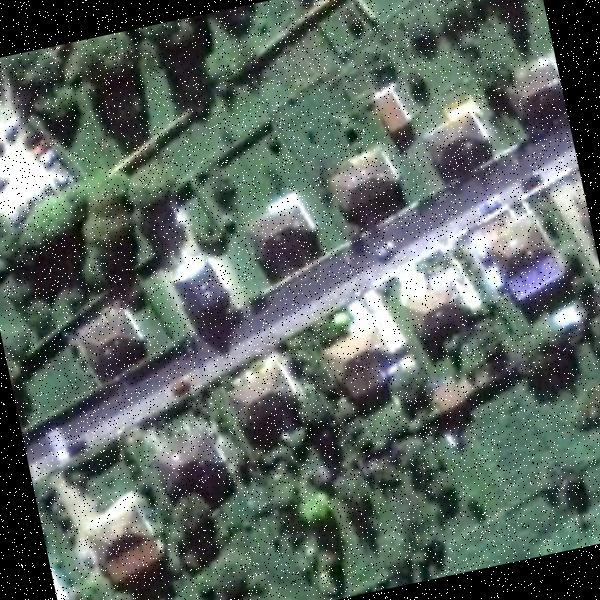Buildings: (82, 487, 158, 585), (488, 209, 558, 302), (151, 424, 224, 498), (323, 323, 394, 391), (417, 107, 485, 168), (73, 304, 137, 363), (246, 202, 314, 255), (332, 158, 400, 205), (223, 371, 293, 416), (506, 61, 564, 112), (410, 285, 467, 330), (179, 264, 220, 314), (372, 91, 410, 134)
